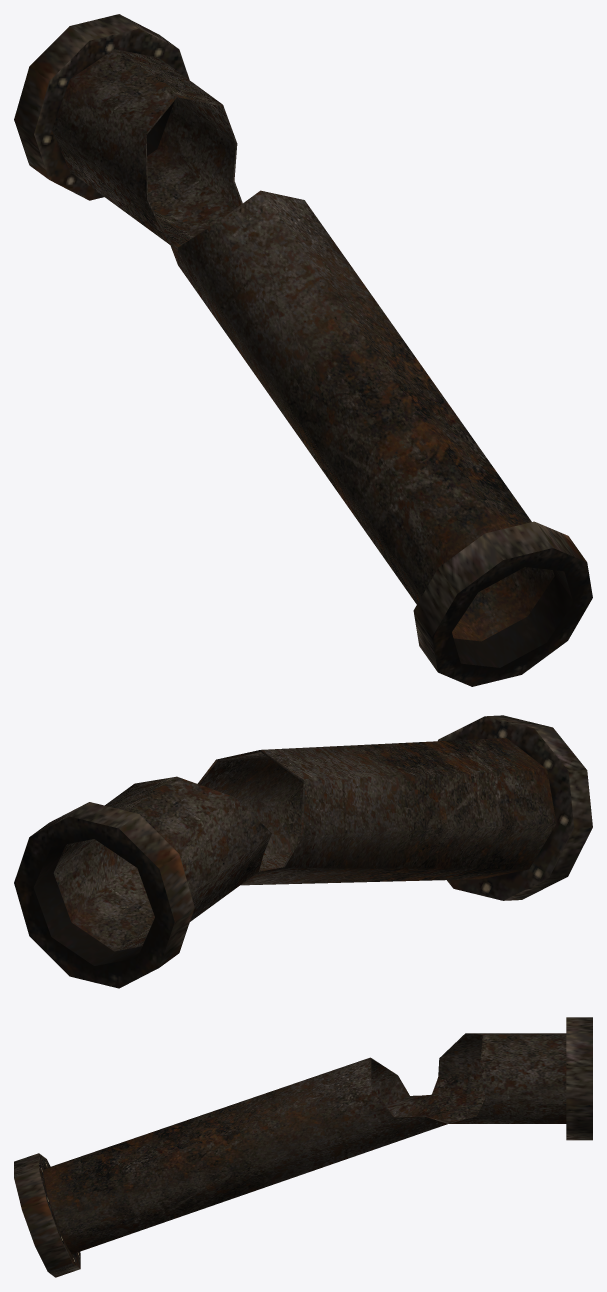
Rendered from pipe_piece_full.dae.
The picture shows the model from 3 angles, top to bottom: view 1: azimuth 30°, elevation 25°; view 2: azimuth 150°, elevation 25°; view 3: azimuth 270°, elevation 25°; orthographic projection. The views are drawn at different scales.
Visible parts, largest first — view 1: polySurface17; view 2: polySurface17; view 3: polySurface17.
Part boxes in pixels (x1,y1,x2,y2): polySurface17: (14,14,592,686); polySurface17: (14,715,592,988); polySurface17: (14,1017,592,1277).
Bounding box in the file's own units: 0.4332 × 0.9428 × 2.02.
